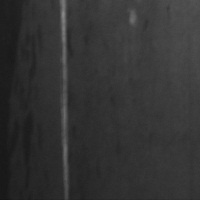scratches: (55, 1, 74, 200)
